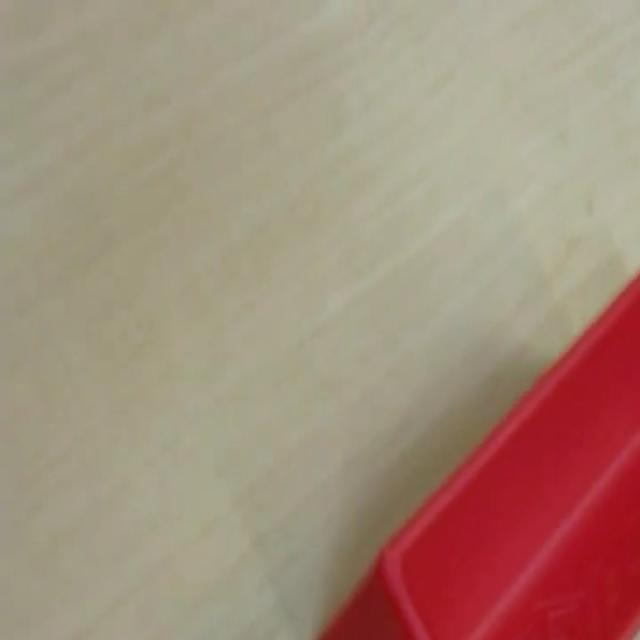red_block: (315, 270, 639, 638)
